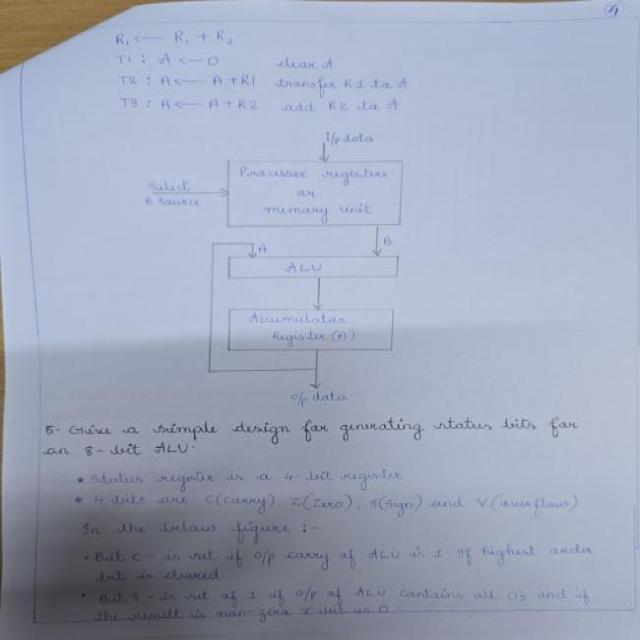Figure Detection - v3 Dataset Version2: (135, 122, 418, 409)
